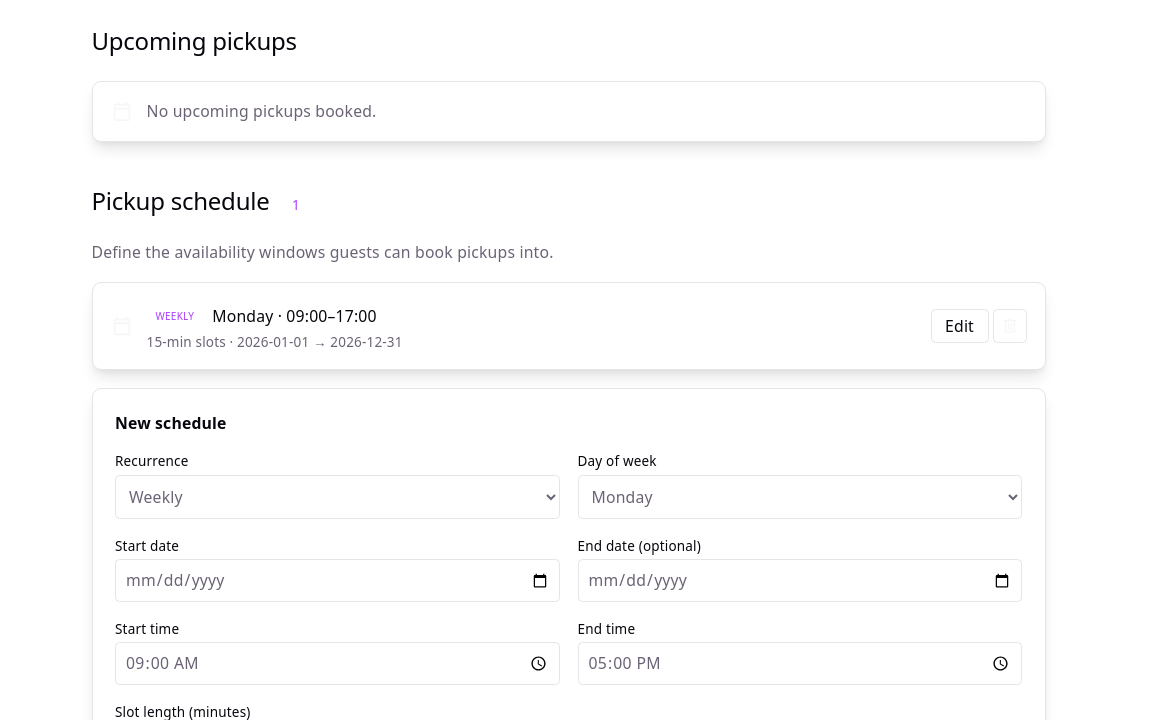
Scenario: <Returns /> › deletes a schedule
Click the button named "delete schedule": {"x": 1010, "y": 326} 993,309 -> 1026,343
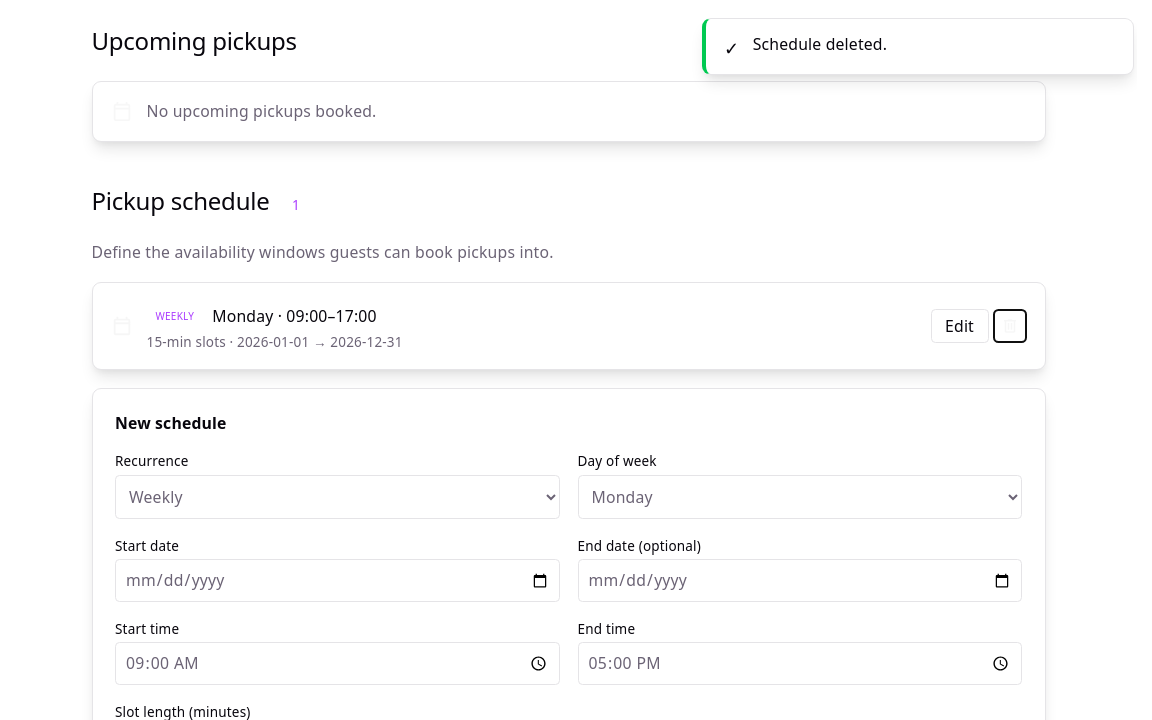
Check: the text "Schedule deleted." is shown, box 753,32 -> 887,54
